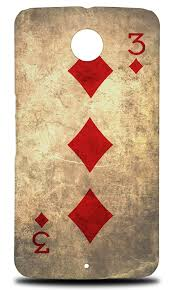three of diamonds: (17, 17, 160, 277)
